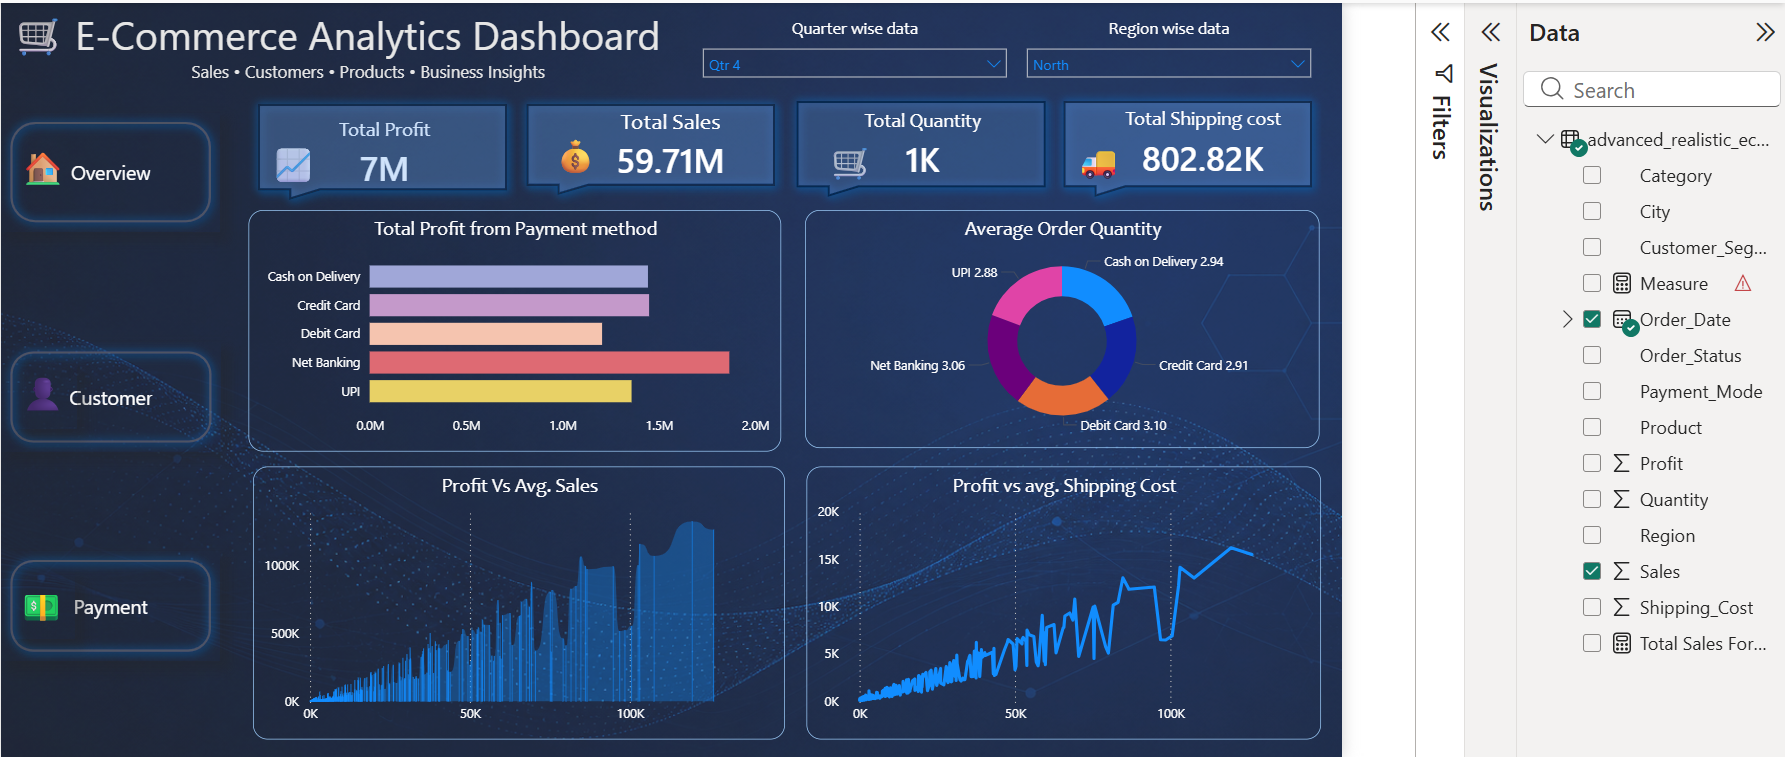

Layout of this report page (visuals, bound fields, positions):
{"tool":"powerbi","page":{"name":"Page 1","canvas":[1280,720],"ordinal":0},"visuals":[{"type":"textbox","box":[0,0,639.4,81.1],"z":0},{"type":"cardVisual","title":"Total Profit","fields":{"Data":["Sum(advanced_realistic_ecommerce_dataset.Profit)"]},"box":[272.5,108.2,188.7,70],"z":1000},{"type":"textbox","box":[12.7,128.8,60.4,52.5],"z":2000},{"type":"textbox","box":[251.5,125.7,65.2,62],"z":3000},{"type":"shape","box":[237,87.5,255.9,109.8],"z":4000},{"type":"shape","box":[492.4,87.5,255.4,105],"z":5000},{"type":"textbox","box":[521.7,117.7,57.3,60.4],"z":7000},{"type":"textbox","box":[784.2,124.1,74.8,62],"z":8000},{"type":"shape","box":[1005.1,84.3,255.4,109.8],"z":12000},{"type":"shape","box":[750.8,84.3,256.1,109.8],"z":14000},{"type":"slicer","title":"Quarter wise data","fields":{"Values":["advanced_realistic_ecommerce_dataset.Order_Date.Variation.Date Hierarchy.Quarter"]},"box":[660.1,14.3,310.2,70],"z":16000},{"type":"slicer","title":"Region wise data","fields":{"Values":["advanced_realistic_ecommerce_dataset.Region"]},"box":[970.3,14.3,291.1,66.8],"z":17000},{"type":"textbox","box":[1021.8,123.9,65.2,52.5],"z":18000},{"type":"cardVisual","title":"Total Shipping cost","fields":{"Data":["Sum(advanced_realistic_ecommerce_dataset.Shipping_Cost)"]},"box":[1054.6,98.6,187.7,71.6],"z":19000},{"type":"cardVisual","title":"Total Quantity","fields":{"Data":["Sum(advanced_realistic_ecommerce_dataset.Quantity)"]},"box":[785.8,100.2,187.7,70],"z":20000},{"type":"actionButton","box":[0,323.7,210,105],"z":21000,"group":"g1"},{"type":"actionButton","box":[0,522.9,209.5,105.6],"z":21000},{"type":"actionButton","box":[0,103.9,209.5,113.8],"z":22000},{"type":"group","id":"g1","title":"Group 1","box":[0,323.7,210.6,104.6],"z":24000},{"type":"textbox","box":[13.2,344.7,59.4,61],"z":24000,"group":"g1"},{"type":"textbox","box":[11.1,545.6,59.4,61],"z":24000,"group":"g2"},{"type":"ribbonChart","title":"Profit  Vs Avg. Sales","fields":{"Category":["advanced_realistic_ecommerce_dataset.Profit"],"Y":["Avg(advanced_realistic_ecommerce_dataset.Sales)"]},"box":[240.8,442.1,508,260.6],"z":25000},{"type":"clusteredBarChart","title":"Total Profit from Payment method","fields":{"Category":["advanced_realistic_ecommerce_dataset.Payment_Mode"],"Y":["Sum(advanced_realistic_ecommerce_dataset.Profit)"]},"box":[237,197.2,509,230.6],"z":28000},{"type":"donutChart","title":"Average Order Quantity","fields":{"Category":["advanced_realistic_ecommerce_dataset.Payment_Mode"],"Y":["Avg(advanced_realistic_ecommerce_dataset.Quantity)"]},"box":[768.3,197.2,491.5,227.5],"z":29000},{"type":"lineChart","title":"Profit vs avg. Shipping Cost","fields":{"Category":["advanced_realistic_ecommerce_dataset.Profit"],"Y":["Avg(advanced_realistic_ecommerce_dataset.Shipping_Cost)"]},"box":[768.7,442.1,491.5,260.6],"z":30000},{"type":"group","id":"g2","title":"Group 1","box":[11.1,545.6,60.4,62],"z":32000},{"type":"cardVisual","title":"Total Sales","fields":{"Data":["Sum(advanced_realistic_ecommerce_dataset.Sales)"]},"box":[545.6,100.2,187.7,70],"z":32001}]}

Visuals, with their boxes on the page's 1280x720 design canvas (x1, y1, x2, y2). These are canvas units, not pixel positions in the 1785x757 screenshot, which may show the page scaled, cropped or inside an application window:
textbox: Rect(0, 0, 639, 81)
"Total Profit" cardVisual: Rect(272, 108, 461, 178)
textbox: Rect(13, 129, 73, 181)
textbox: Rect(252, 126, 317, 188)
shape: Rect(237, 88, 493, 197)
shape: Rect(492, 88, 748, 192)
textbox: Rect(522, 118, 579, 178)
textbox: Rect(784, 124, 859, 186)
shape: Rect(1005, 84, 1260, 194)
shape: Rect(751, 84, 1007, 194)
"Quarter wise data" slicer: Rect(660, 14, 970, 84)
"Region wise data" slicer: Rect(970, 14, 1261, 81)
textbox: Rect(1022, 124, 1087, 176)
"Total Shipping cost" cardVisual: Rect(1055, 99, 1242, 170)
"Total Quantity" cardVisual: Rect(786, 100, 974, 170)
actionButton: Rect(0, 324, 210, 429)
actionButton: Rect(0, 523, 210, 628)
actionButton: Rect(0, 104, 210, 218)
"Group 1" group: Rect(0, 324, 211, 428)
textbox: Rect(13, 345, 73, 406)
textbox: Rect(11, 546, 70, 607)
"Profit  Vs Avg. Sales" ribbonChart: Rect(241, 442, 749, 703)
"Total Profit from Payment method" clusteredBarChart: Rect(237, 197, 746, 428)
"Average Order Quantity" donutChart: Rect(768, 197, 1260, 425)
"Profit vs avg. Shipping Cost" lineChart: Rect(769, 442, 1260, 703)
"Group 1" group: Rect(11, 546, 72, 608)
"Total Sales" cardVisual: Rect(546, 100, 733, 170)
